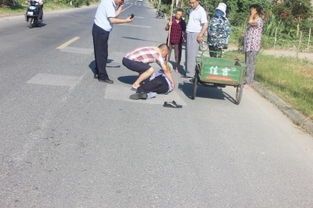falling: (123, 63, 183, 105)
